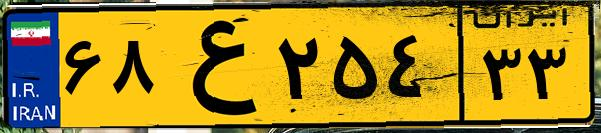2: (270, 28, 330, 110)
3: (475, 38, 525, 113), (525, 38, 570, 115)
4: (385, 28, 445, 110)
5: (330, 28, 385, 110)
6: (57, 26, 110, 100)
8: (110, 28, 158, 98)
ع: (158, 12, 270, 120)
